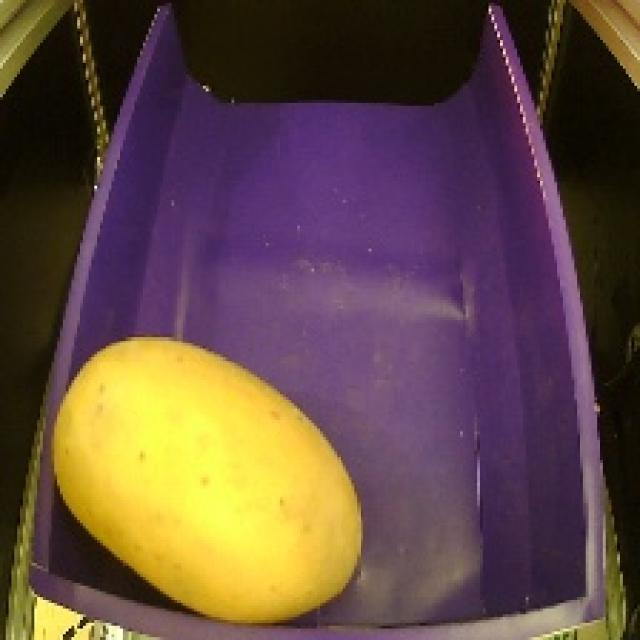full_potato: (34, 324, 381, 630)
